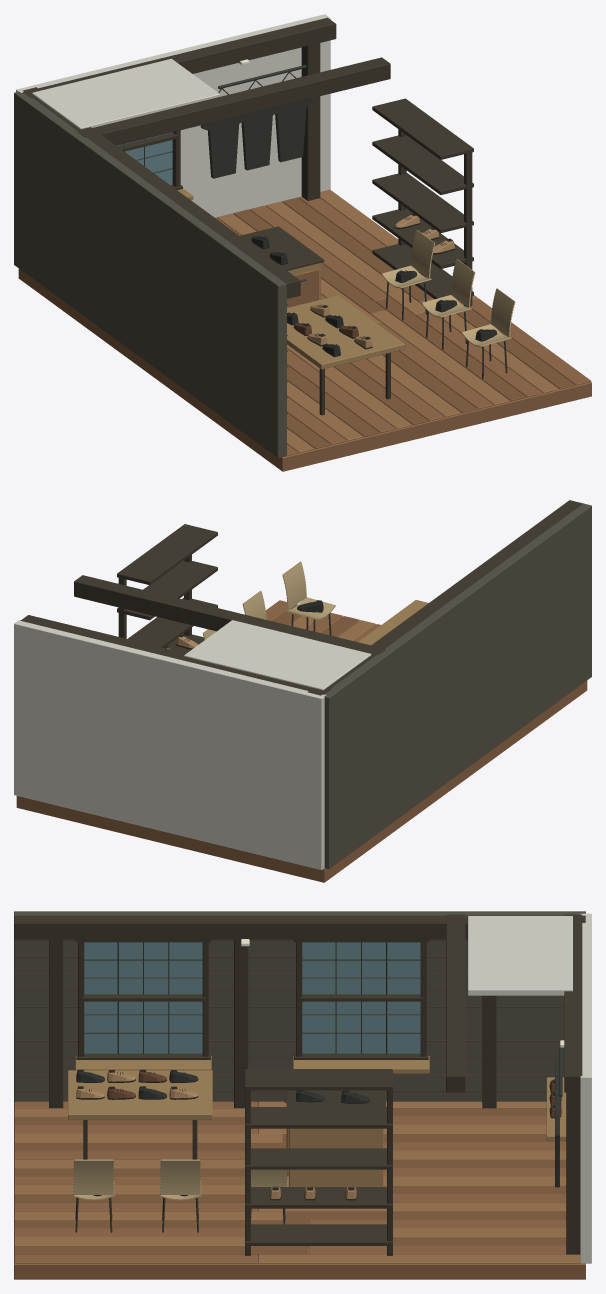
Rendered from ocs-interior-147dbfb86b18.glb.
3 renders of one model, top to bottom at view 1: azimuth 30°, elevation 25°; view 2: azimuth 150°, elevation 25°; view 3: azimuth 270°, elevation 25°, orthographic. The views are drawn at different scales.
Visible parts, largest first — view 1: OCS.001; view 2: OCS.001; view 3: OCS.001.
Boxes of the visible parts, x1,y1,x2,y2 form: OCS.001: [14, 14, 591, 471]; OCS.001: [14, 500, 591, 882]; OCS.001: [14, 911, 591, 1279].
Size of the model in its own units: 4.67 by 2.68 by 6.87.
